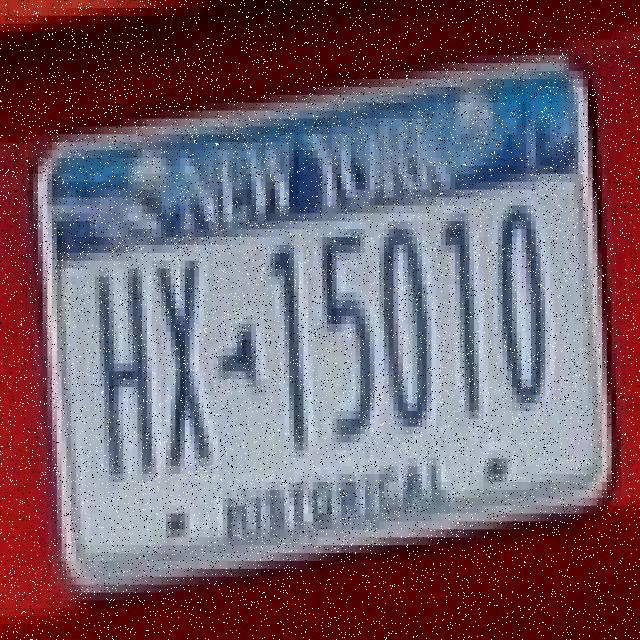licenseplate: (25, 51, 630, 568)
